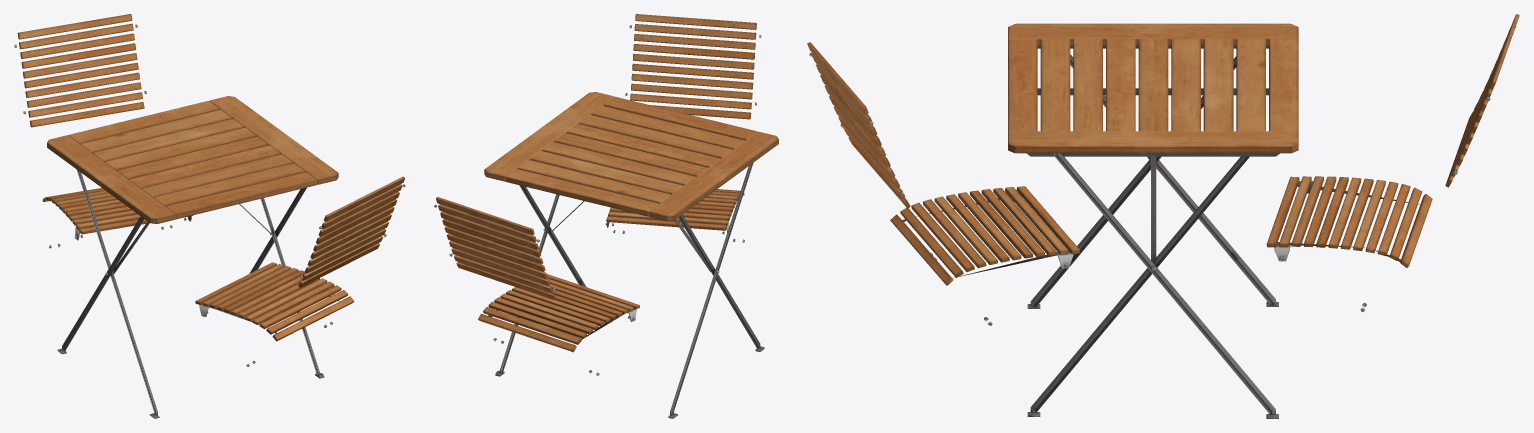
The model's file is outdoor_table_chair_set_01.glb.
3 renders of one model, left to right at view 1: azimuth 30°, elevation 25°; view 2: azimuth 150°, elevation 25°; view 3: azimuth 270°, elevation 25°, orthographic. The views are drawn at different scales.
Parts seen in each view (by area): view 1: outdoor_table_chair_set_01_table, outdoor_table_chair_set_01_chair_02, outdoor_table_chair_set_01_chair_01; view 2: outdoor_table_chair_set_01_table, outdoor_table_chair_set_01_chair_02, outdoor_table_chair_set_01_chair_01; view 3: outdoor_table_chair_set_01_table, outdoor_table_chair_set_01_chair_01, outdoor_table_chair_set_01_chair_02.
Part boxes in pixels (bbox=[...]): outdoor_table_chair_set_01_table: bbox=[47, 96, 338, 418]; outdoor_table_chair_set_01_chair_02: bbox=[14, 14, 192, 248]; outdoor_table_chair_set_01_chair_01: bbox=[195, 176, 405, 366]; outdoor_table_chair_set_01_table: bbox=[484, 92, 778, 418]; outdoor_table_chair_set_01_chair_02: bbox=[434, 197, 639, 375]; outdoor_table_chair_set_01_chair_01: bbox=[605, 14, 761, 242]; outdoor_table_chair_set_01_table: bbox=[1008, 23, 1298, 418]; outdoor_table_chair_set_01_chair_01: bbox=[807, 42, 1079, 325]; outdoor_table_chair_set_01_chair_02: bbox=[1266, 14, 1519, 312].
Bounding box in the file's own units: 0.7404 × 0.8468 × 1.7.
Materials: 2 (2 with a texture image).
